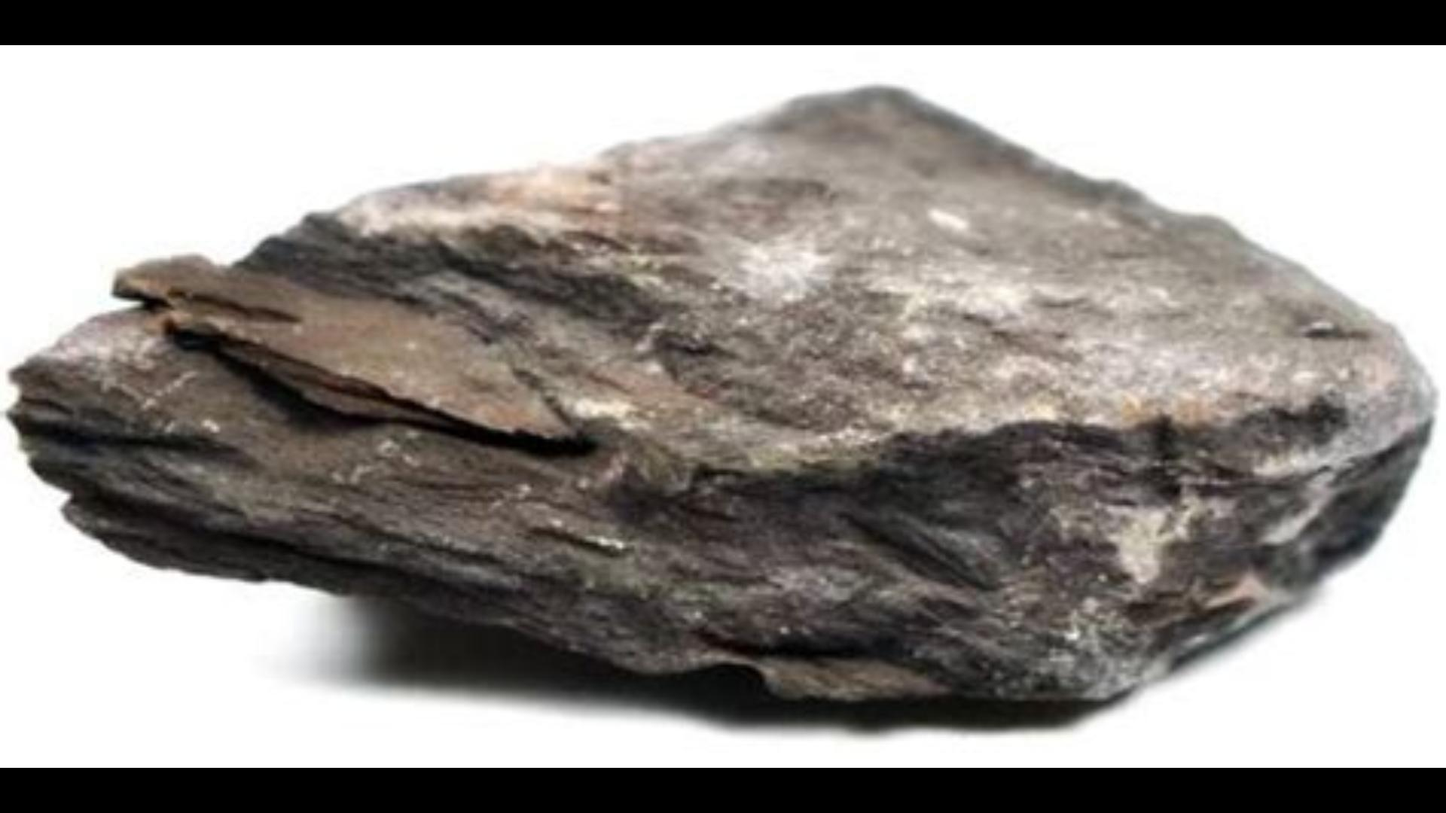rock: (12, 91, 1431, 698)
